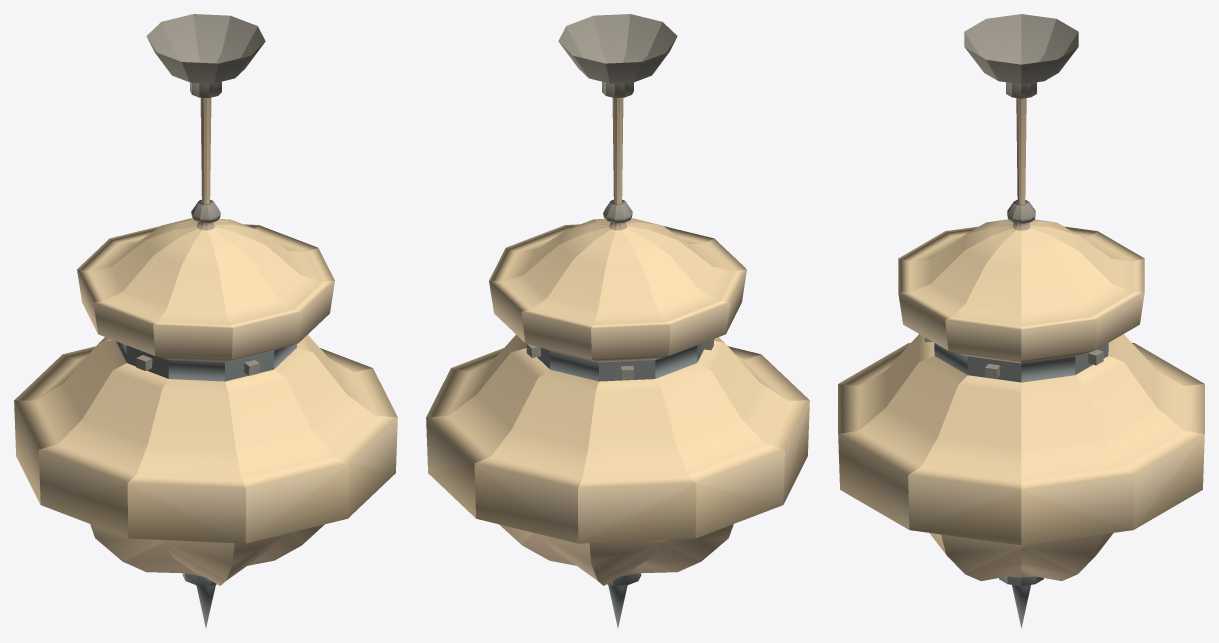
File: lamp_ceiling_upstairs.fbx
The picture shows the model from 3 angles, left to right: view 1: azimuth 30°, elevation 25°; view 2: azimuth 150°, elevation 25°; view 3: azimuth 270°, elevation 25°; orthographic projection.
Visible parts, largest first — view 1: lamp_ceiling_upstairs; view 2: lamp_ceiling_upstairs; view 3: lamp_ceiling_upstairs.
Part boxes in pixels (x1,y1,x2,y2): lamp_ceiling_upstairs: (14, 14, 397, 627); lamp_ceiling_upstairs: (426, 14, 809, 627); lamp_ceiling_upstairs: (838, 14, 1204, 628).
Bounding box in the file's own units: 46.82 × 79.01 × 44.53.
